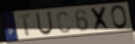6: (74, 9, 91, 32)
C: (56, 10, 72, 34)
O: (110, 5, 129, 31)
T: (17, 13, 32, 37)
U: (35, 11, 54, 36)
X: (89, 6, 112, 33)
